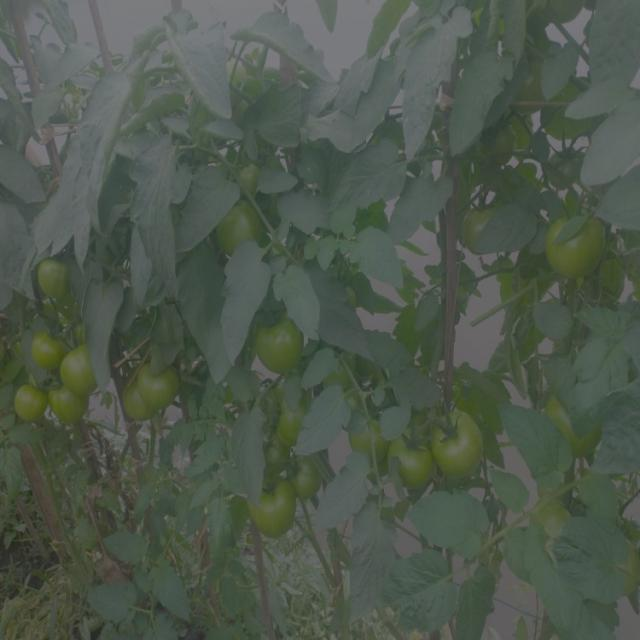tomato: (44, 336, 115, 423), (545, 395, 604, 463), (550, 212, 607, 275), (213, 198, 276, 251), (437, 407, 482, 476), (253, 315, 301, 375), (602, 526, 640, 601), (124, 366, 178, 418), (267, 396, 303, 471), (452, 204, 511, 249), (250, 474, 293, 535), (389, 429, 432, 490), (228, 59, 287, 95), (33, 256, 83, 298), (546, 141, 584, 187), (350, 412, 382, 463), (228, 163, 276, 191), (13, 381, 42, 425), (485, 130, 519, 166), (530, 505, 572, 533), (295, 476, 323, 498)
